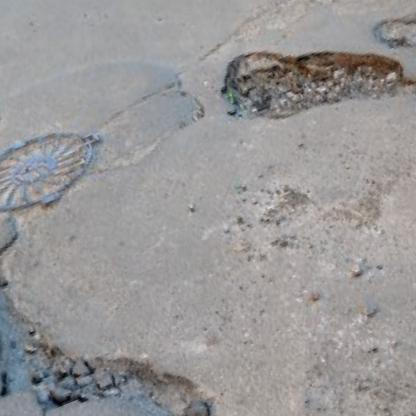pothole: (0, 191, 221, 416), (209, 0, 414, 162), (372, 0, 416, 66)
